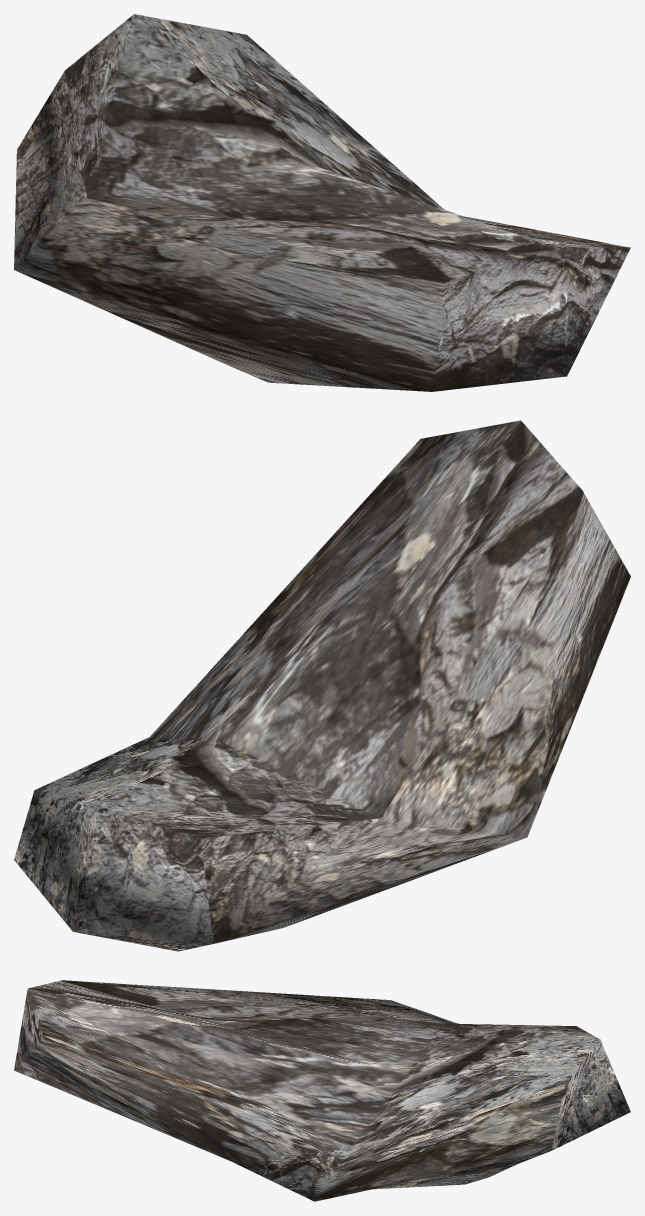
File: rock_03.fbx
3 views of the same model, one above another, from view 1: azimuth 30°, elevation 25°; view 2: azimuth 150°, elevation 25°; view 3: azimuth 270°, elevation 25° (orthographic). The views are drawn at different scales.
Parts seen in each view (by area): view 1: rock_03; view 2: rock_03; view 3: rock_03.
Part boxes in pixels (left/top/right/bottom): rock_03: left=14, top=14, right=630, bottom=391; rock_03: left=14, top=420, right=630, bottom=951; rock_03: left=14, top=980, right=630, bottom=1201.
Size of the model in its own units: 22.91 by 13.89 by 40.31.
Materials: 1 (1 with a texture image).
